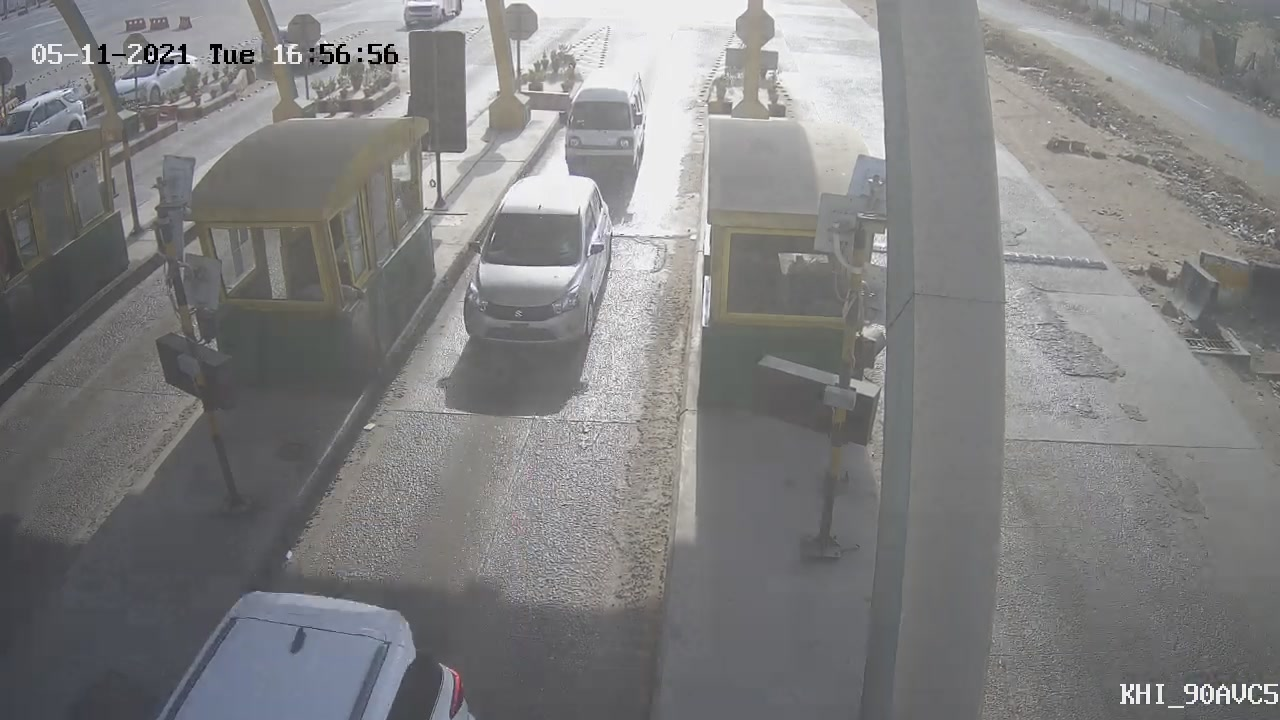F1: (439, 159, 642, 374), (538, 57, 664, 192)
